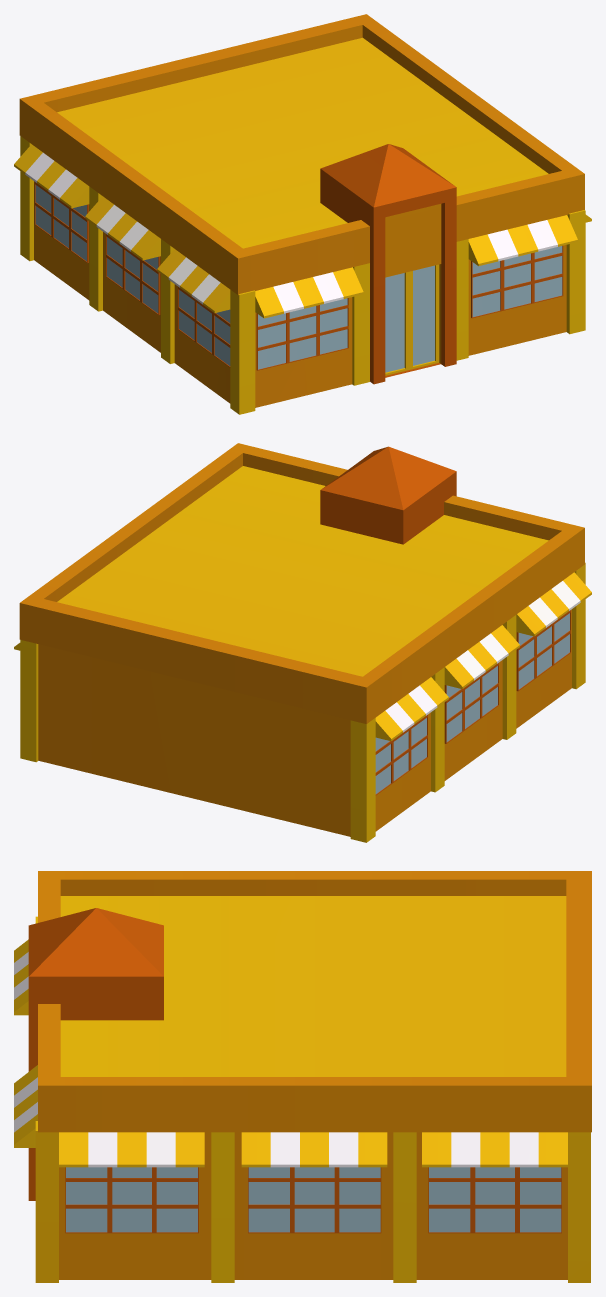
File: Env_CommercialBuilding_02.fbx
3 renders of one model, top to bottom at view 1: azimuth 30°, elevation 25°; view 2: azimuth 150°, elevation 25°; view 3: azimuth 270°, elevation 25°, orthographic. The views are drawn at different scales.
Visible parts, largest first — view 1: Env_CommercialBuilding_02; view 2: Env_CommercialBuilding_02; view 3: Env_CommercialBuilding_02.
Part boxes in pixels (<box>): Env_CommercialBuilding_02: <box>14,14,591,414</box>; Env_CommercialBuilding_02: <box>14,443,591,842</box>; Env_CommercialBuilding_02: <box>14,871,591,1282</box>.
Bounding box in the file's own units: 1278 × 684 × 1337.
Materials: 1 (1 with a texture image).
